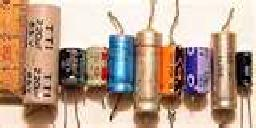Electrolytic Capacitor: (25, 1, 60, 124), (157, 3, 187, 126), (105, 5, 135, 125), (138, 1, 161, 128), (212, 7, 235, 127), (59, 43, 88, 128), (184, 42, 212, 118), (236, 48, 256, 119), (84, 42, 107, 94)
